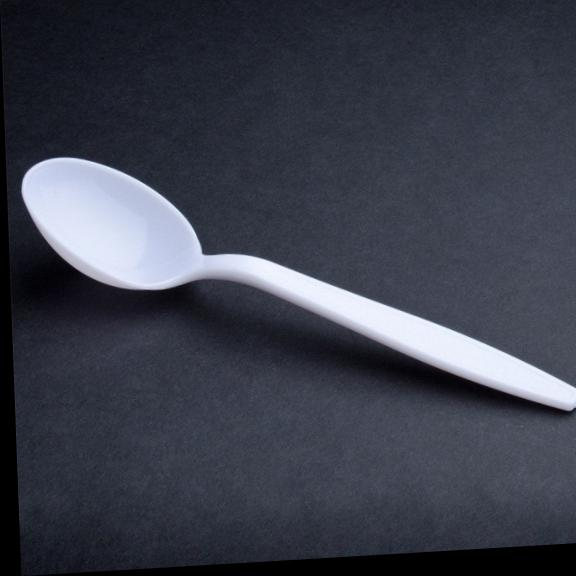Plastik: (23, 158, 575, 410)
